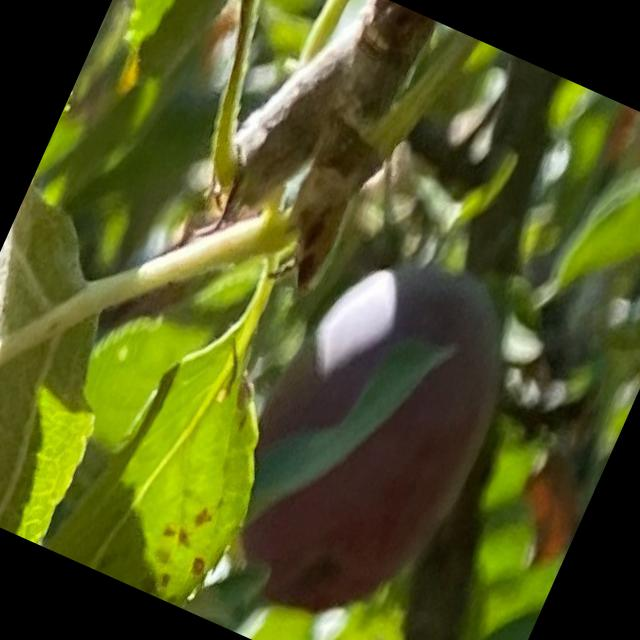Apples: (196, 223, 542, 639)
